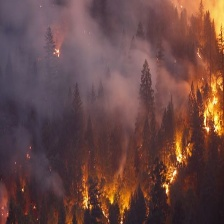fire: (195, 91, 224, 137), (167, 135, 189, 161), (106, 192, 133, 213), (160, 167, 177, 199), (78, 177, 92, 211), (52, 41, 69, 60)
smoke: (1, 4, 182, 172)
